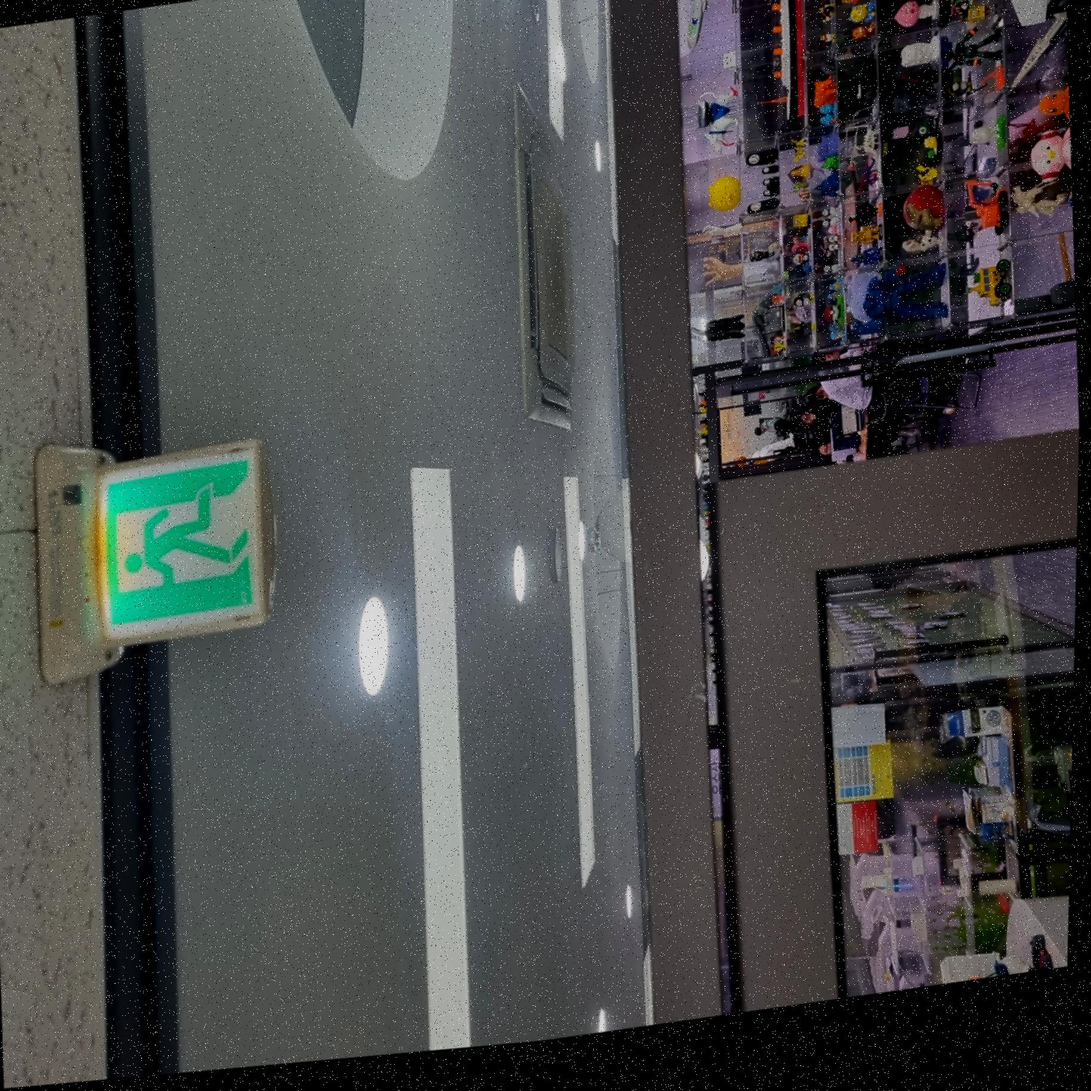emergency_exit: (93, 438, 272, 646)
